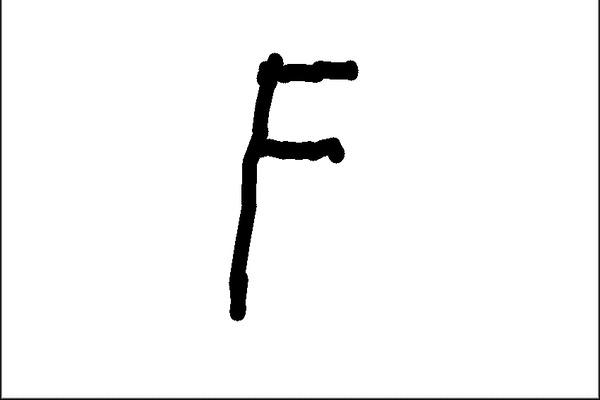F: (222, 48, 362, 324)
